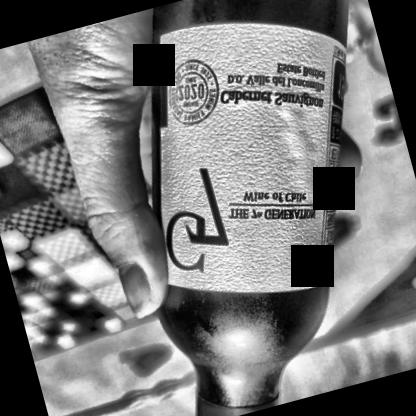G7: (101, 0, 403, 317)
